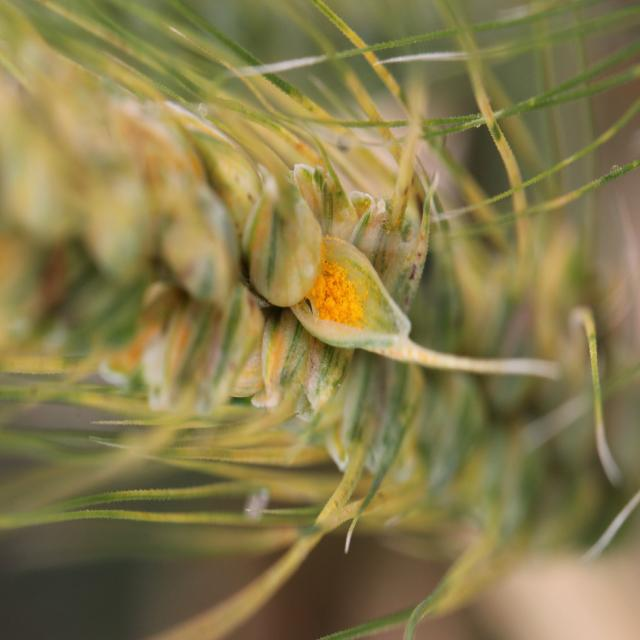wheat-yellowrust: (294, 237, 405, 350)
